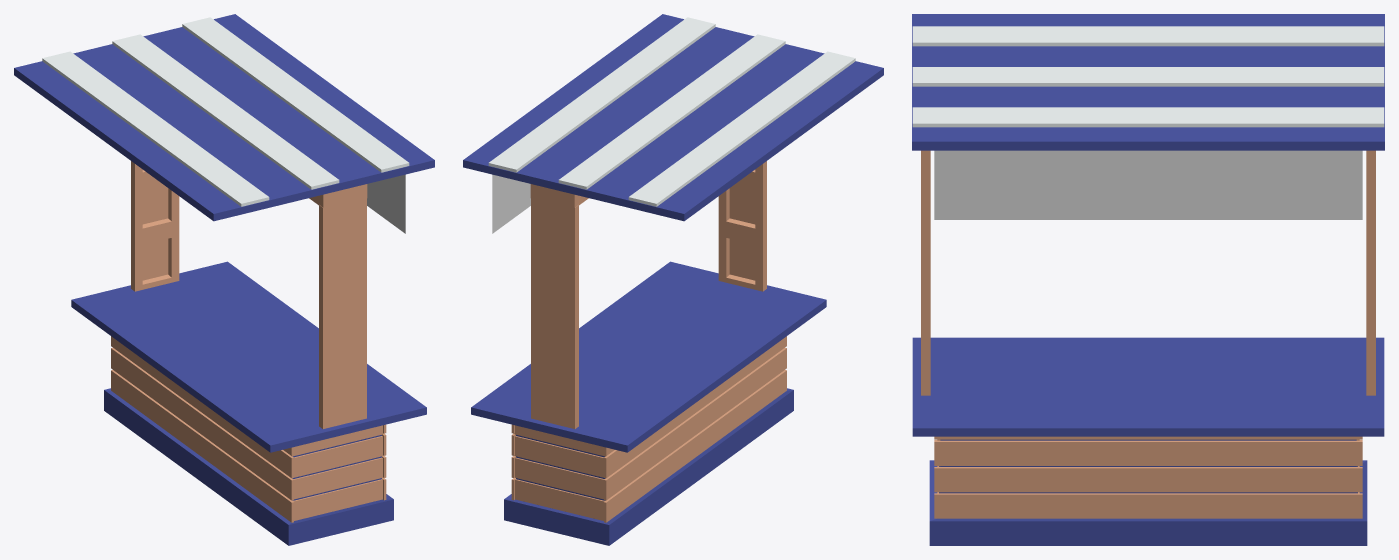
Rendered from booth2.6.fbx.
3 renders of one model, left to right at view 1: azimuth 30°, elevation 25°; view 2: azimuth 150°, elevation 25°; view 3: azimuth 270°, elevation 25°, orthographic. The views are drawn at different scales.
Visible parts, largest first — view 1: Cube, Cube.013, Cube.016, Cube.006, Cube.017, Cube.018, Plane.001, Cube.012; view 2: Cube, Cube.013, Cube.016, Cube.006, Cube.017, Cube.018, Plane.001, Cube.012; view 3: Cube, Cube.013, Cube.017, Plane.001, Cube.016, Cube.006.
Boxes of the visible parts, x1,y1,x2,y2 form: Cube: (71,261,426,545); Cube.013: (14,14,434,221); Cube.016: (42,17,409,206); Cube.006: (131,161,366,428); Cube.017: (111,336,386,522); Cube.018: (292,425,383,520); Plane.001: (367,174,405,233); Cube.012: (309,184,367,208); Cube: (471,261,826,545); Cube.013: (463,14,883,221); Cube.016: (488,17,855,206); Cube.006: (531,161,766,428); Cube.017: (511,336,786,522); Cube.018: (514,425,605,520); Plane.001: (492,174,530,233); Cube.012: (530,184,588,208); Cube: (912,337,1384,545); Cube.013: (912,14,1384,150); Cube.017: (934,436,1362,518); Plane.001: (934,150,1362,219); Cube.016: (912,26,1384,127); Cube.006: (921,150,1375,395).
Size of the model in its own units: 825 by 1285 by 1289.
